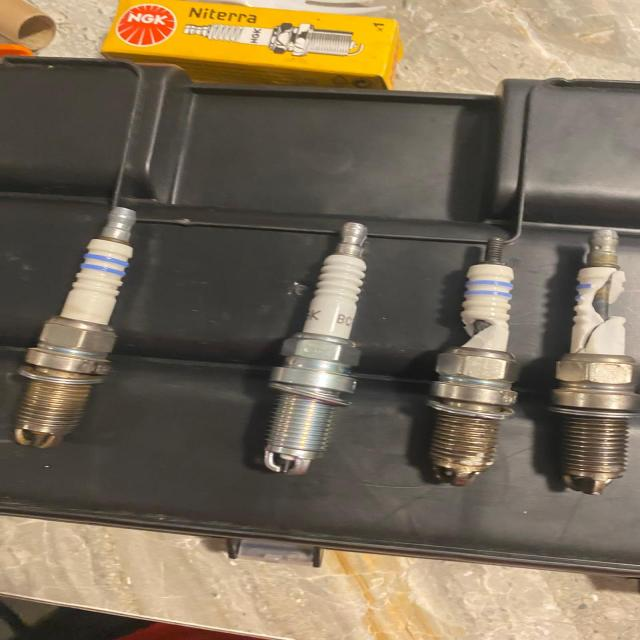damaged_spark-plug: (419, 234, 544, 488), (551, 219, 640, 500)
spark-plug: (9, 190, 161, 460), (250, 210, 384, 480)
